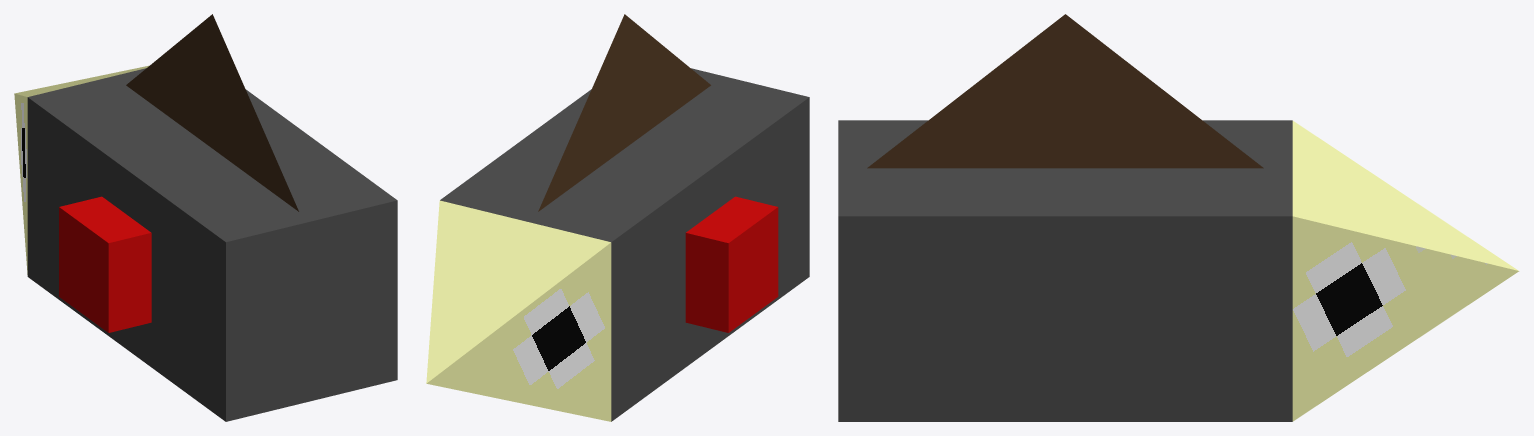
Rendered from fish.gltf.
3 renders of one model, left to right at view 1: azimuth 30°, elevation 25°; view 2: azimuth 150°, elevation 25°; view 3: azimuth 270°, elevation 25°, orthographic. The views are drawn at different scales.
Visible parts, largest first — view 1: cube (×2), pyramid (×2); view 2: cube (×2), pyramid (×2); view 3: cube, pyramid (×2).
Boxes of the visible parts, left/top/right/bottom form: cube (×2): left=27, top=68, right=397, bottom=421; pyramid (×2): left=14, top=14, right=298, bottom=274; cube (×2): left=440, top=68, right=809, bottom=421; pyramid (×2): left=426, top=14, right=710, bottom=421; cube: left=838, top=120, right=1292, bottom=421; pyramid (×2): left=867, top=14, right=1519, bottom=421.
Size of the model in its own units: 0.625 by 0.875 by 1.5.
1 material, 1 textured.
